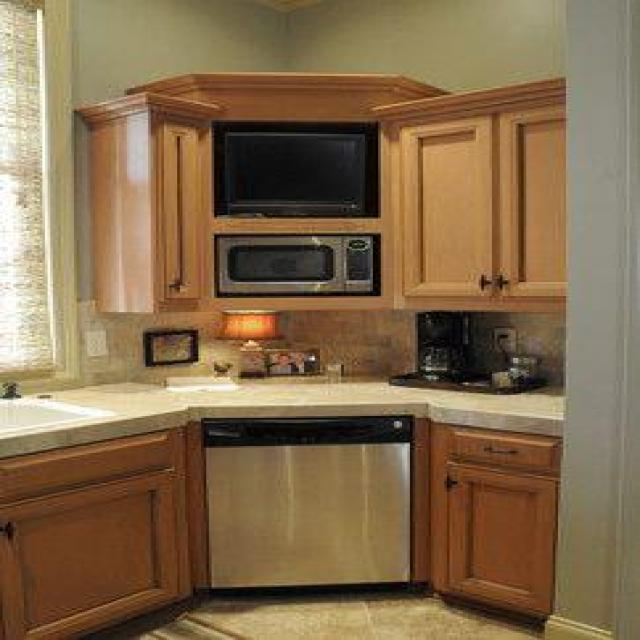dishwasher: (206, 412, 417, 599)
